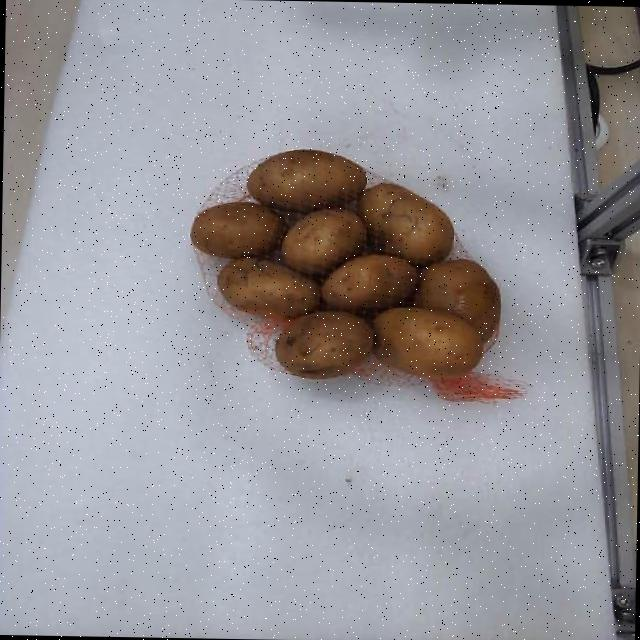potato: (373, 306, 482, 377), (359, 182, 452, 264), (246, 148, 365, 211), (414, 257, 500, 340), (276, 310, 372, 376), (217, 256, 320, 317), (281, 209, 366, 273), (321, 255, 417, 309), (190, 201, 284, 255)
